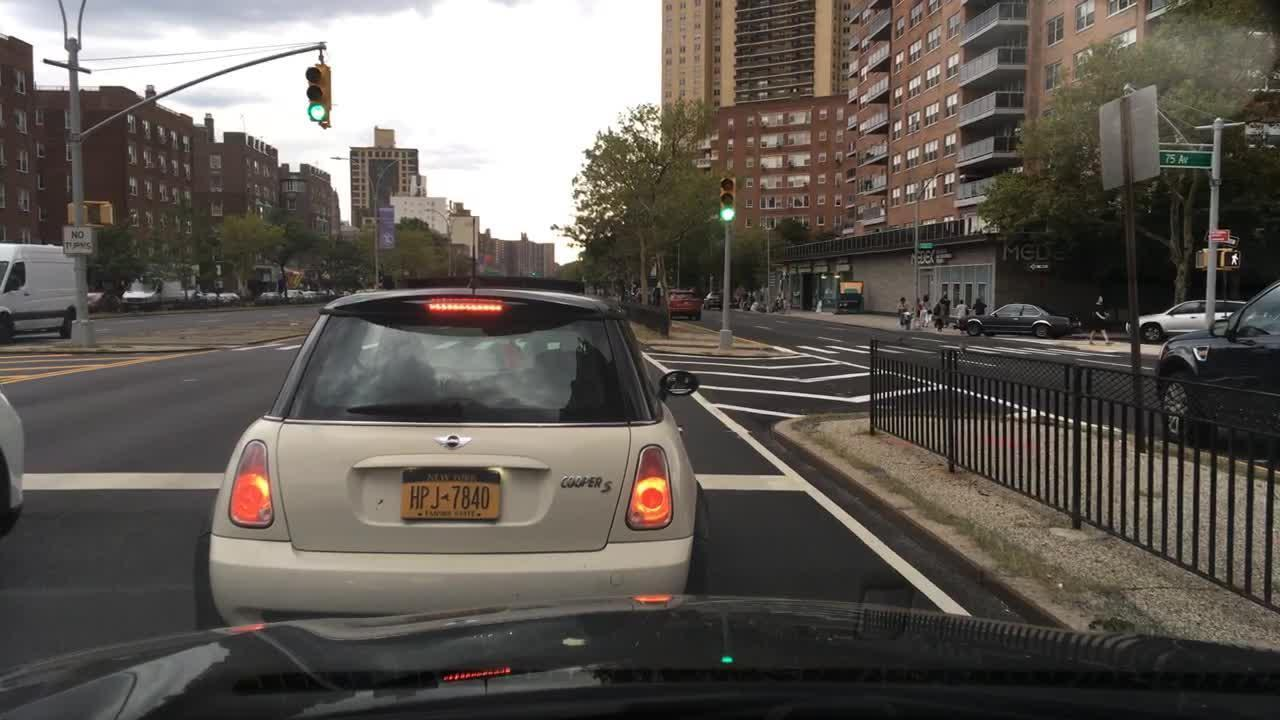mini: (425, 427, 496, 465)
